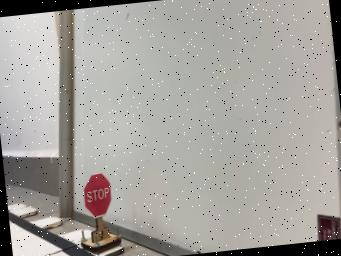stop: (80, 172, 121, 253), (80, 172, 121, 253), (80, 172, 121, 253), (80, 172, 121, 253), (80, 172, 121, 253), (80, 172, 121, 253)
street: (8, 211, 94, 256), (8, 211, 94, 256), (8, 211, 94, 256), (8, 211, 94, 256), (8, 211, 94, 256), (8, 211, 94, 256)
